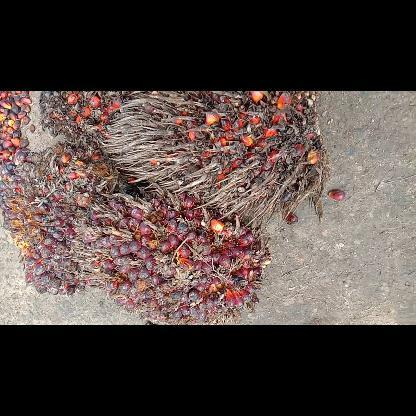TBS masak: (72, 182, 270, 324), (0, 142, 139, 295)
Terlalu masak: (101, 90, 331, 226), (38, 90, 134, 150)
